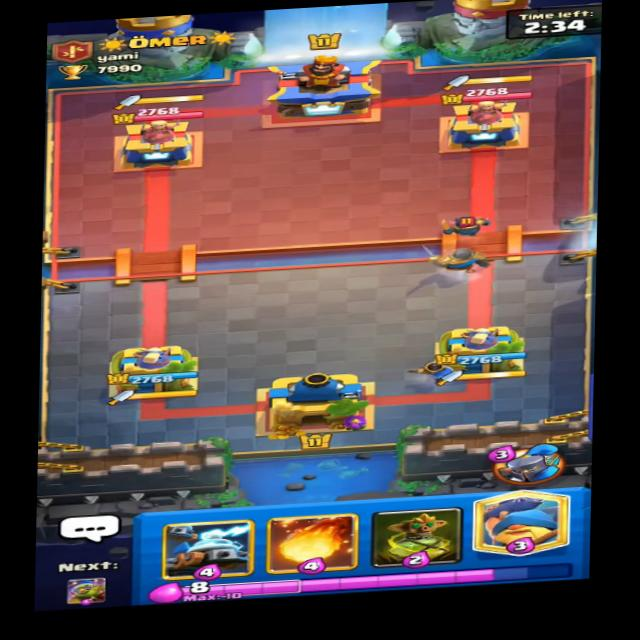mini-pekka: (438, 213, 499, 244)
